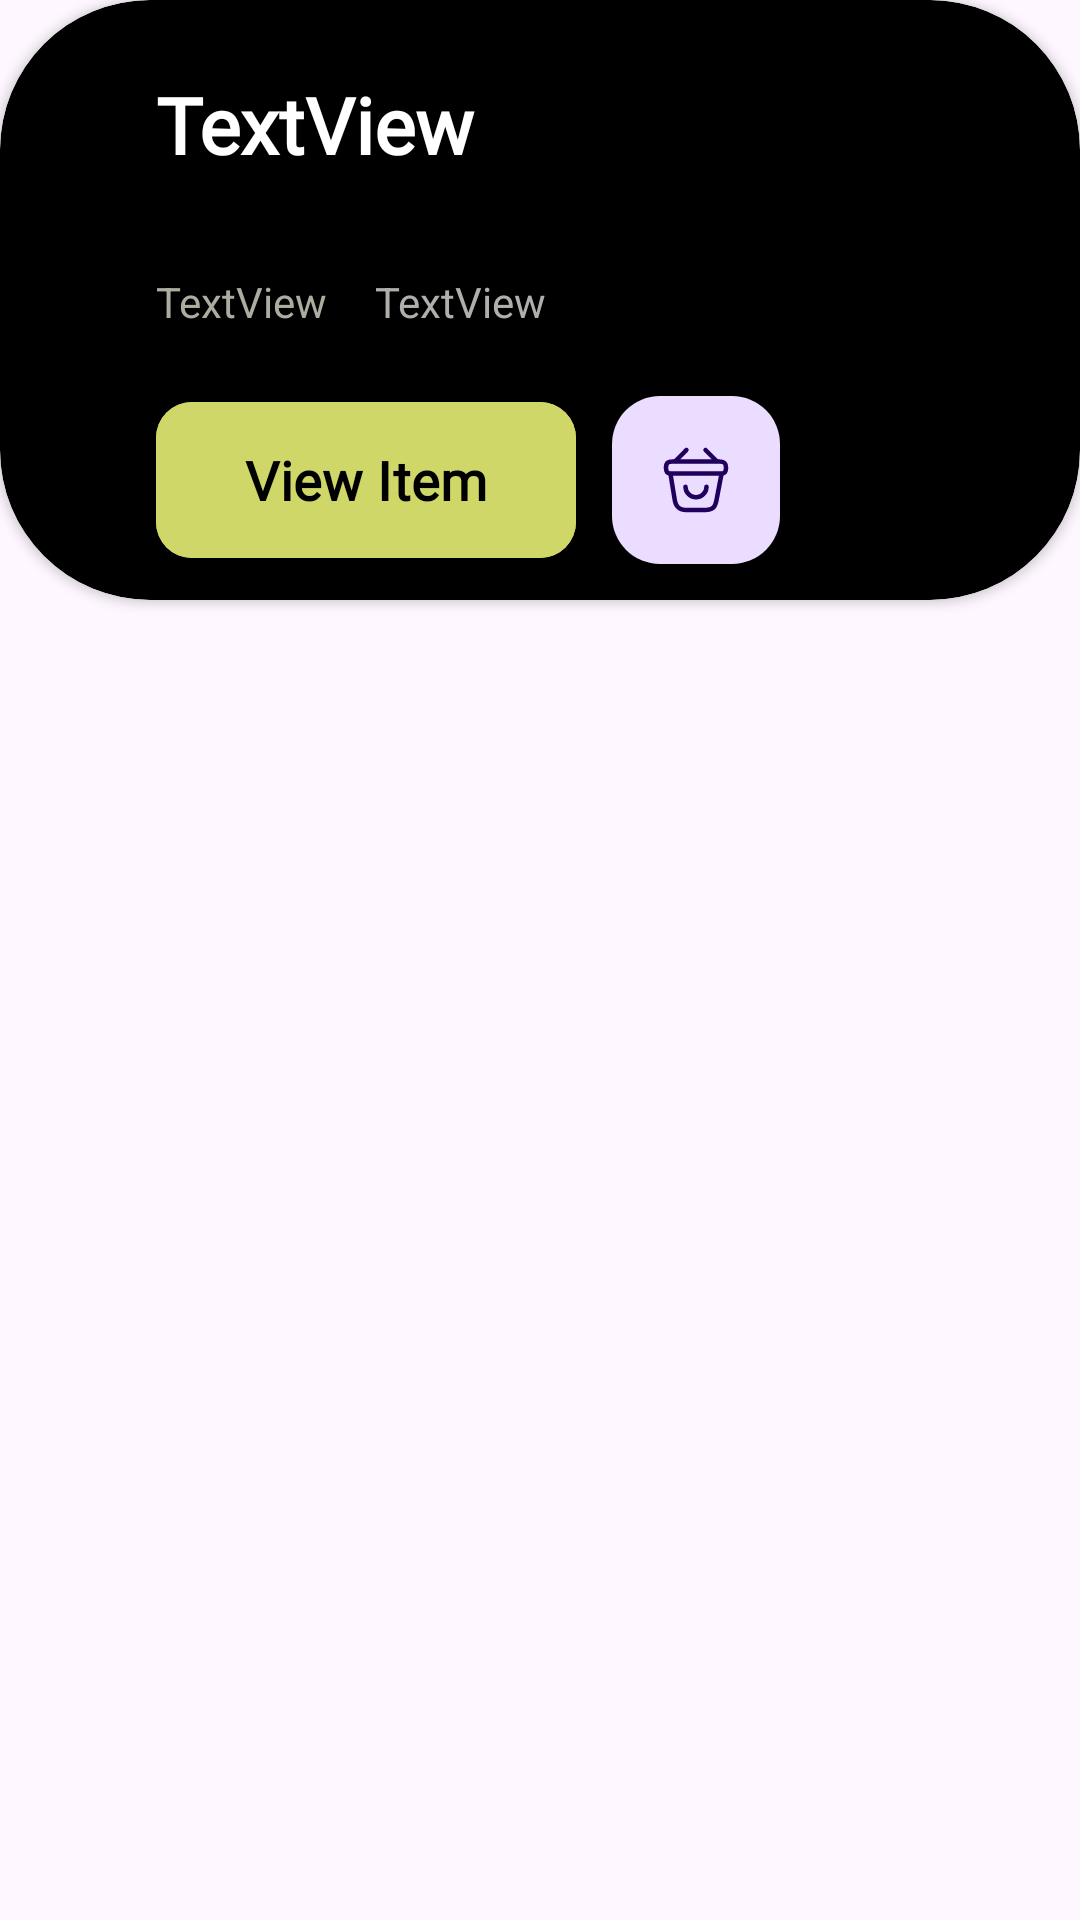

Icon bounding boxes for this 1080w x 1920h phone screenshot, format (x1, y1, x2, y2):
bag happy: (612, 396, 780, 564)
